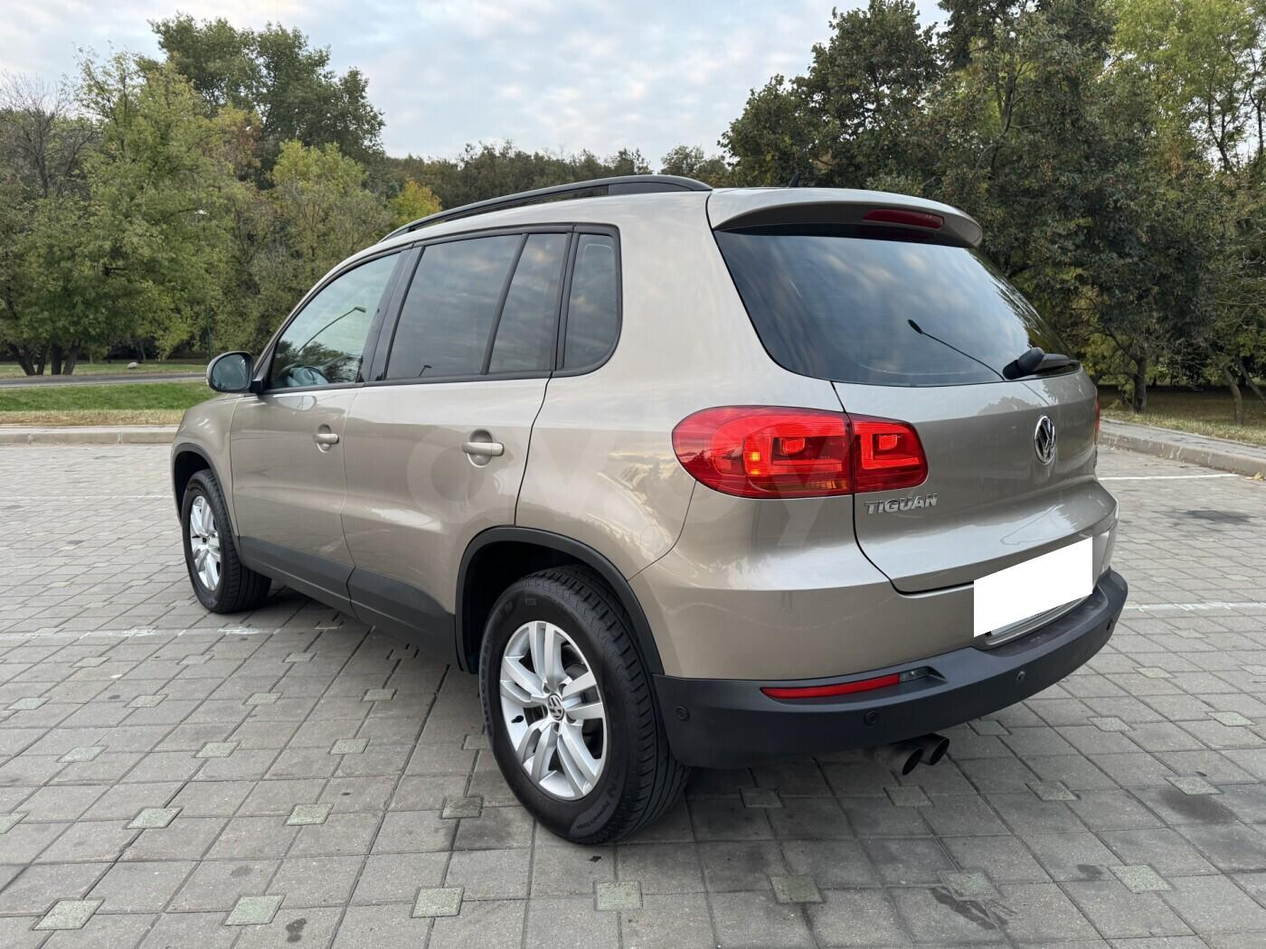Tiguan_2011-2018: (163, 182, 1133, 851)
